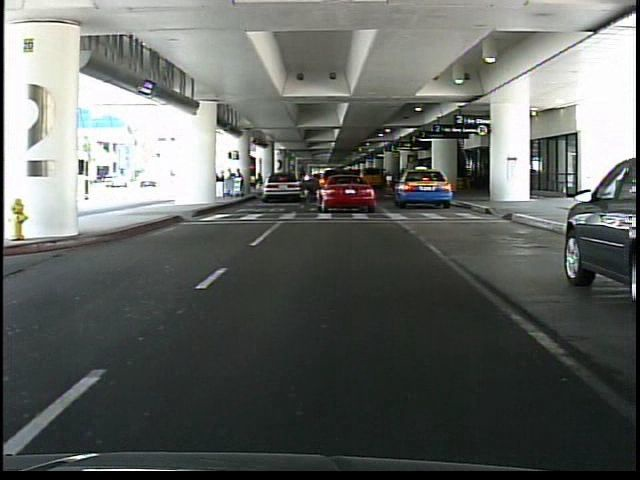person: (297, 165, 311, 201)
